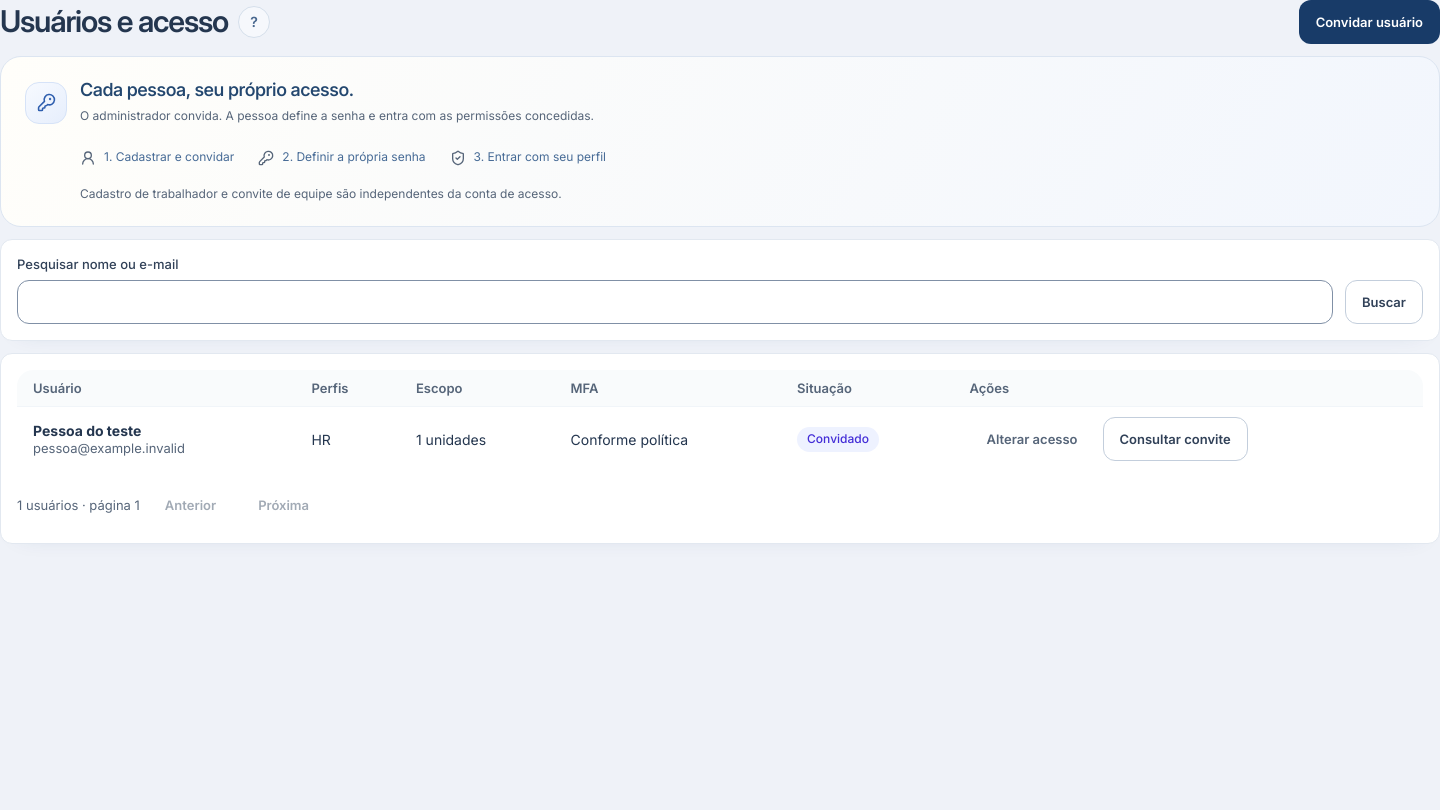
Test: Escopo autorizado e desativação explícita de usuários › explica o primeiro acesso e impede ativação manual de uma conta convidada
Click the button "Alterar acesso" at (1032, 439), box [970,417,1095,461]
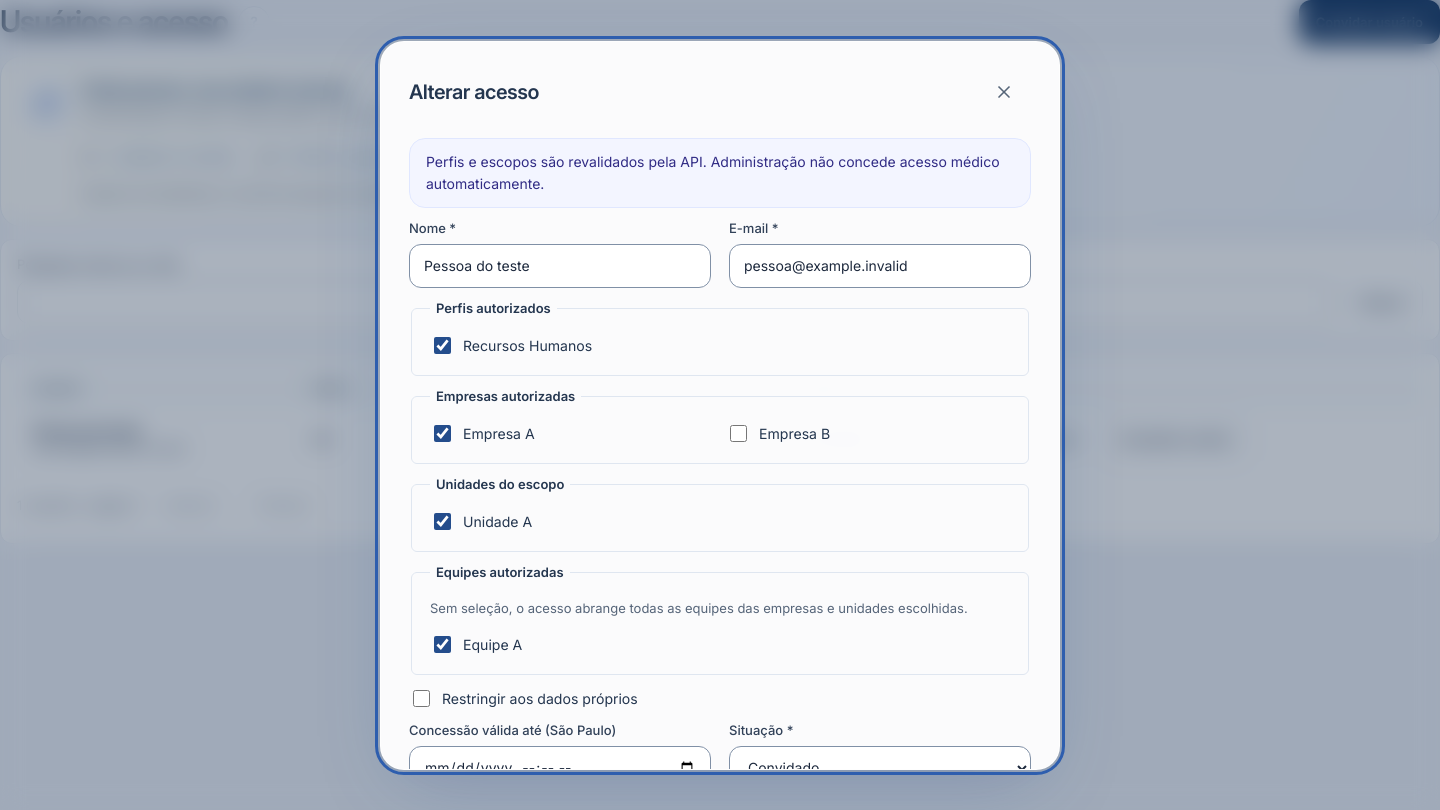
Expected: the checkbox labelled "Empresa A" is shown, [434,425,451,442]
Select "Ativo" in the dropdown labelled "Situação" at (880, 768), box [729,746,1031,790]
(page scrolled)
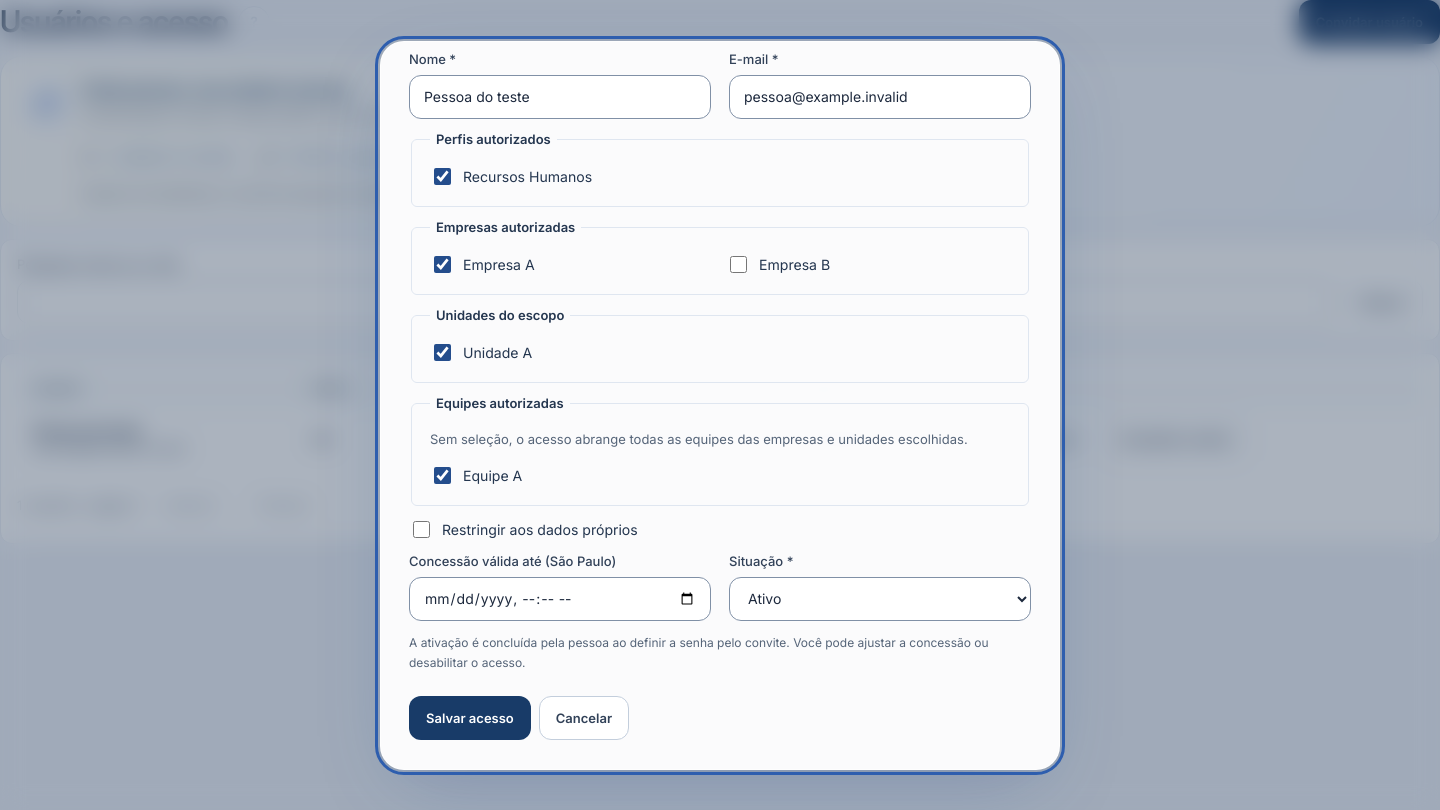
Click the button "Salvar acesso" at (470, 718), box [409,696,531,740]
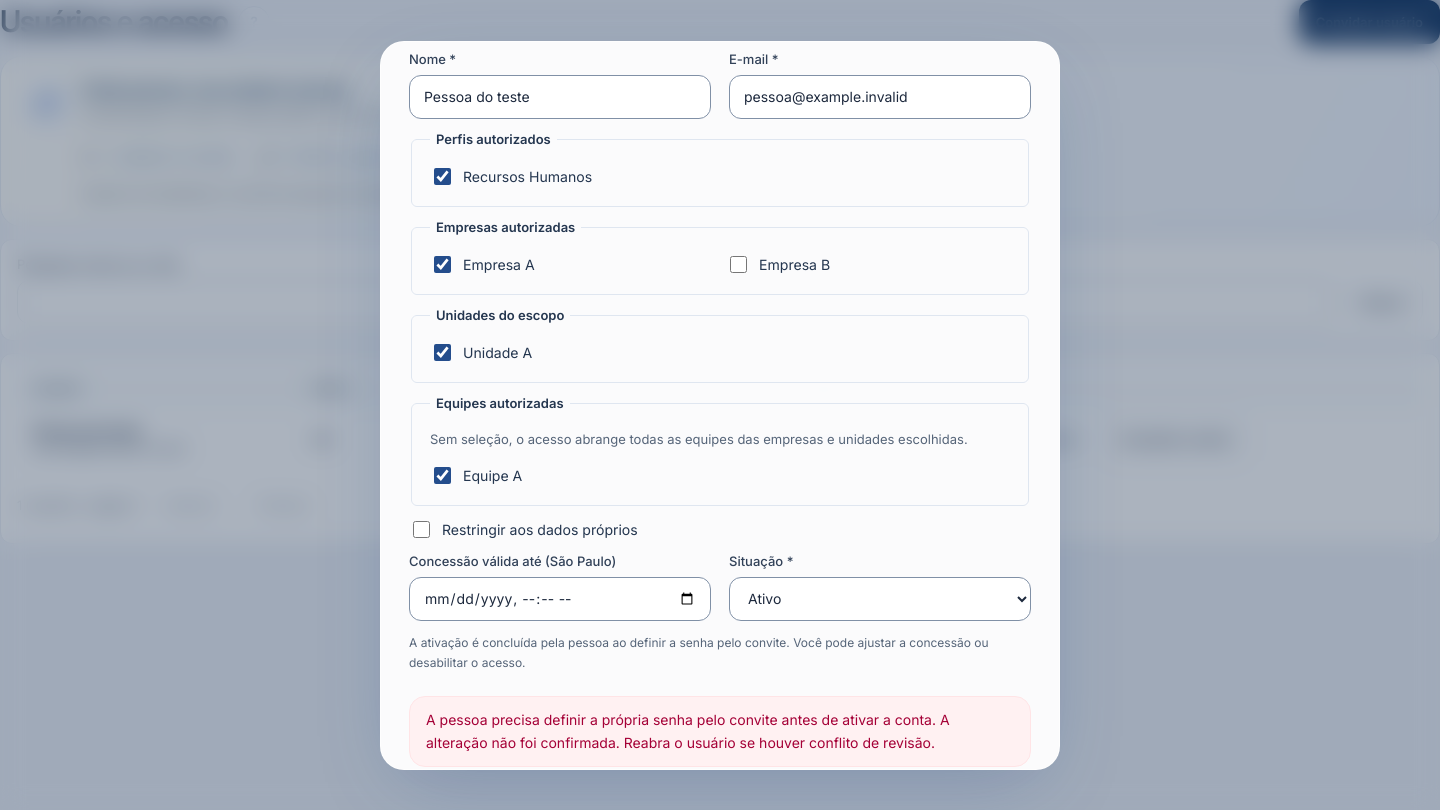
Expected: the text "A pessoa precisa definir a própria senha pelo convite" is shown, [426,711,936,728]
